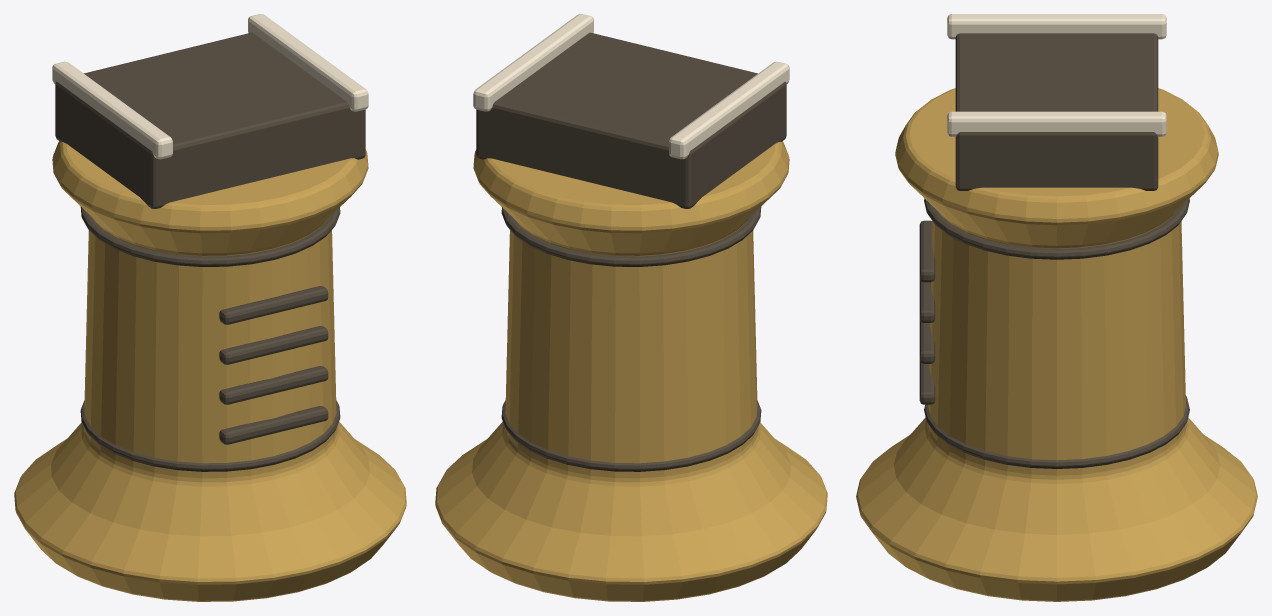
The model's file is field-relay-v1.glb.
3 renders of one model, left to right at view 1: azimuth 30°, elevation 25°; view 2: azimuth 150°, elevation 25°; view 3: azimuth 270°, elevation 25°, orthographic. The views are drawn at different scales.
Visible parts, largest first — view 1: Mission1_field-relay; view 2: Mission1_field-relay; view 3: Mission1_field-relay.
Boxes of the visible parts, x1,y1,x2,y2 form: Mission1_field-relay: [14, 14, 406, 601]; Mission1_field-relay: [435, 14, 827, 601]; Mission1_field-relay: [856, 14, 1257, 601].
Size of the model in its own units: 0.7138 by 0.905 by 0.7138.
